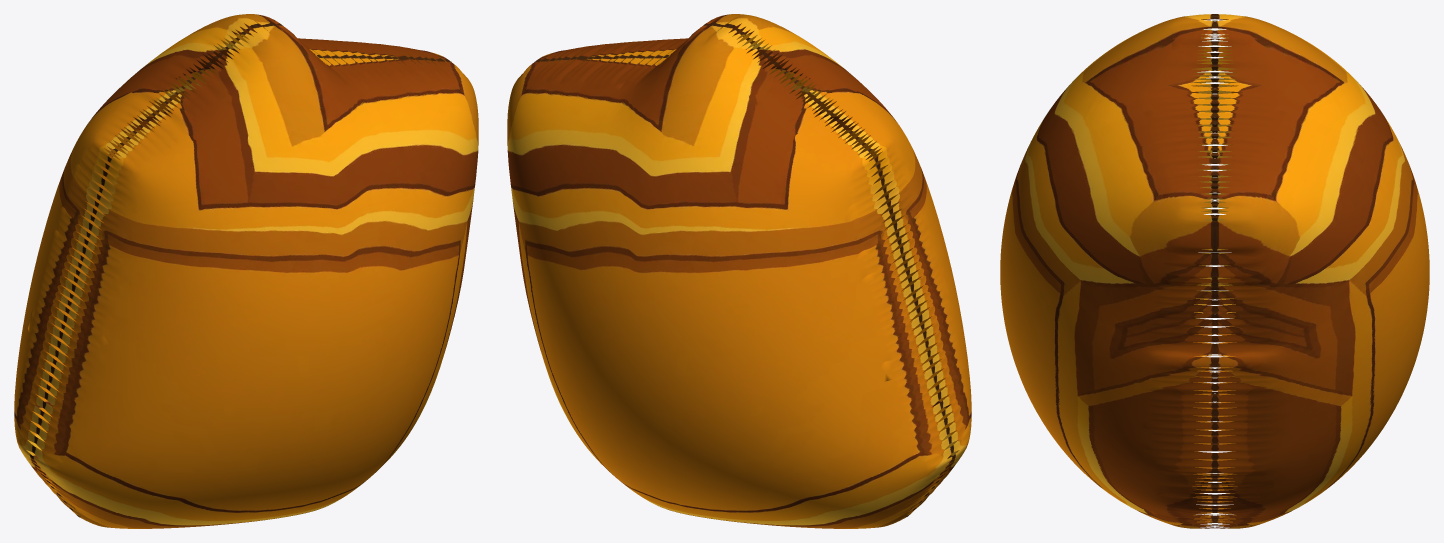
The model's file is actuator_housing.glb.
3 renders of one model, left to right at view 1: azimuth 30°, elevation 25°; view 2: azimuth 150°, elevation 25°; view 3: azimuth 270°, elevation 25°, orthographic. The views are drawn at different scales.
Parts seen in each view (by area): view 1: actuator_housing; view 2: actuator_housing; view 3: actuator_housing.
Boxes of the visible parts, box(x1,y1,x2,y2) form: actuator_housing: box(14, 14, 478, 528); actuator_housing: box(507, 14, 971, 528); actuator_housing: box(1000, 14, 1429, 528).
Size of the model in its own units: 0.988 by 1.05 by 0.8268.
1 material, 1 textured.
